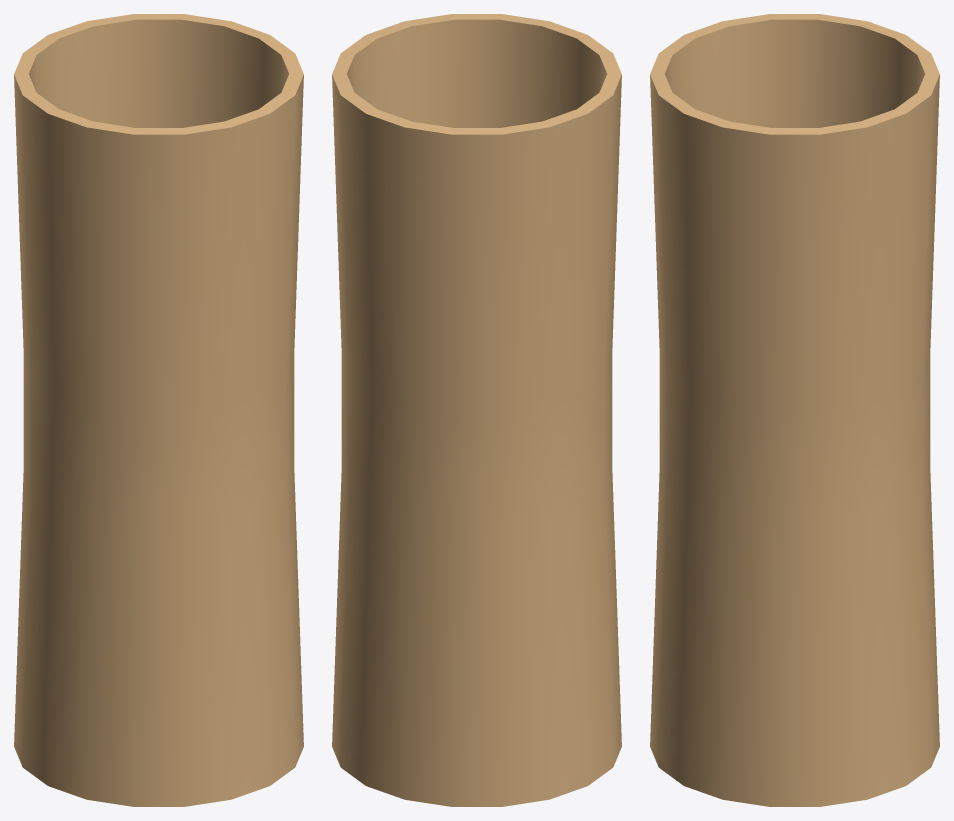
File: tower_body.glb
3 views of the same model, side by side, from view 1: azimuth 30°, elevation 25°; view 2: azimuth 150°, elevation 25°; view 3: azimuth 270°, elevation 25° (orthographic).
Parts seen in each view (by area): view 1: 03 Chimney | Solid tower body | 001; view 2: 03 Chimney | Solid tower body | 001; view 3: 03 Chimney | Solid tower body | 001.
Boxes of the visible parts, x1,y1,x2,y2 form: 03 Chimney | Solid tower body | 001: (14, 14, 303, 806); 03 Chimney | Solid tower body | 001: (332, 14, 621, 806); 03 Chimney | Solid tower body | 001: (650, 14, 939, 806).
Bounding box in the file's own units: 4.3 × 11.17 × 4.36.
